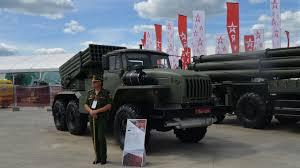MIL_SAM_TEL: (53, 42, 212, 143), (189, 46, 300, 128)
